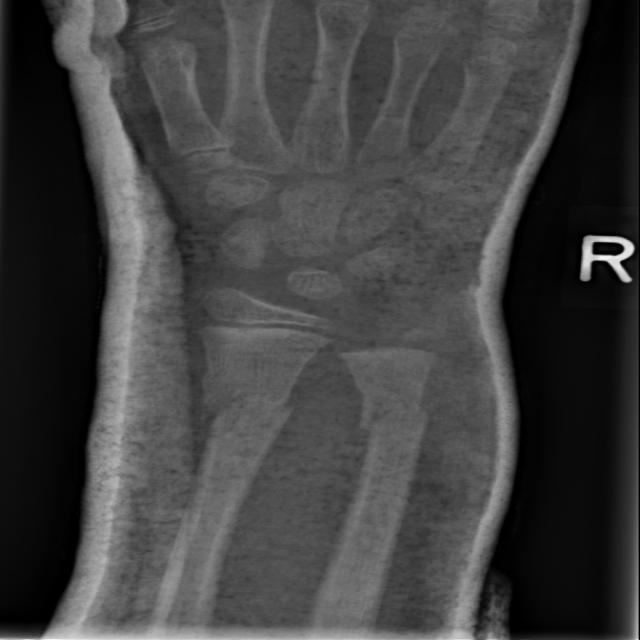radius fracture: (170, 363, 321, 512)
ulna fracture: (345, 364, 445, 525)
